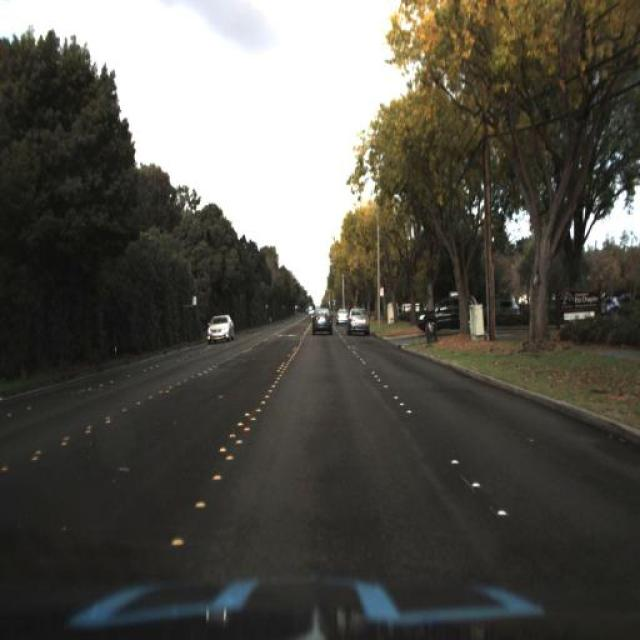car: (412, 281, 479, 333), (342, 300, 377, 342), (203, 310, 237, 351), (305, 304, 339, 341), (206, 310, 236, 350), (334, 300, 350, 326)
